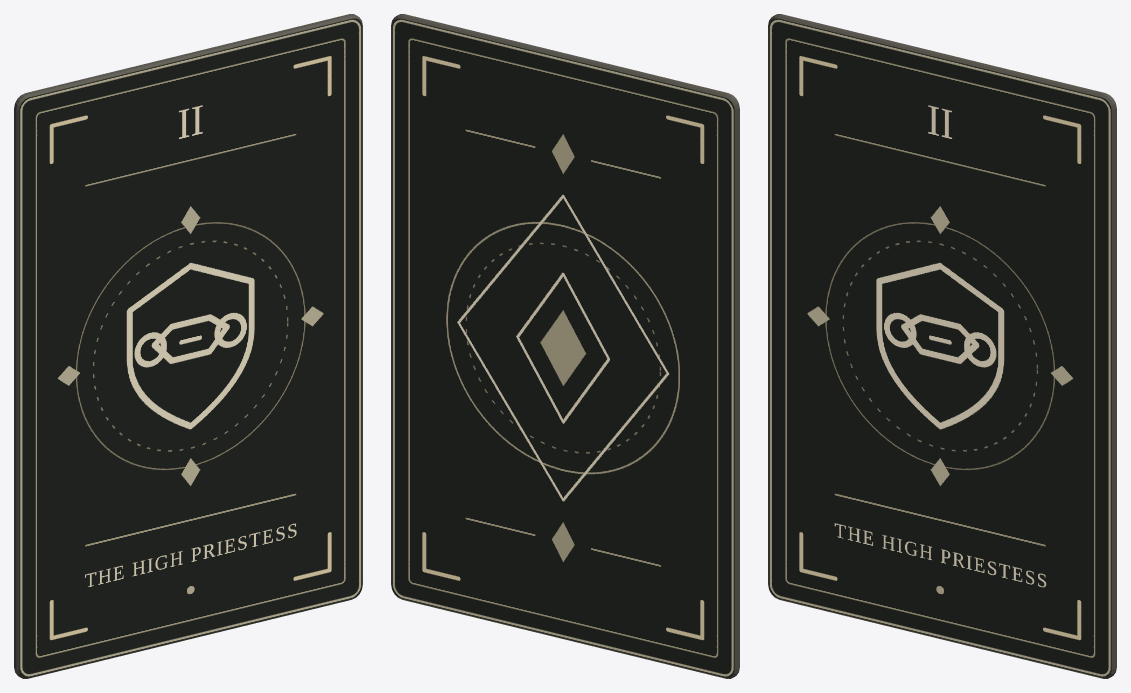
The model's file is high_priestess.glb.
3 views of the same model, side by side, from view 1: azimuth 30°, elevation 25°; view 2: azimuth 150°, elevation 25°; view 3: azimuth 330°, elevation 25° (orthographic).
Visible parts, largest first — view 1: high_priestess; view 2: high_priestess; view 3: high_priestess.
Part boxes in pixels (box(x1,y1,x2,y2)): high_priestess: box(14, 14, 362, 678); high_priestess: box(391, 14, 739, 678); high_priestess: box(768, 14, 1116, 678).
Bounding box in the file's own units: 0.18 × 0.29 × 0.004.
3 materials, 2 textured.
